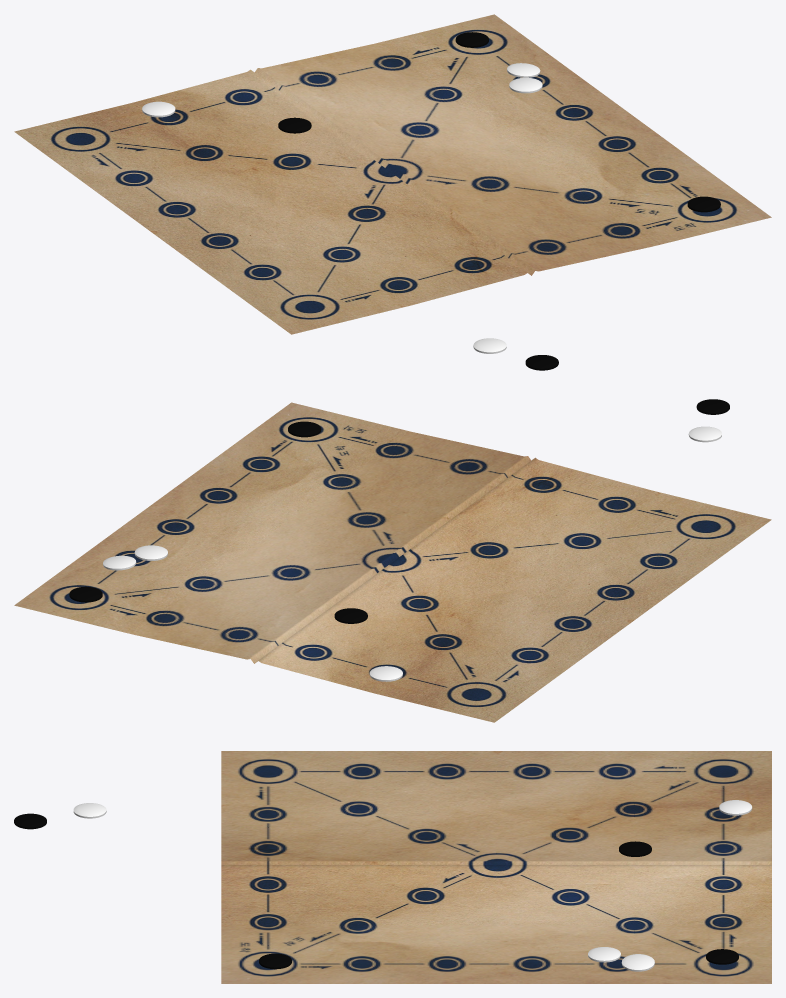
The model's file is gameboard.fbx.
3 renders of one model, top to bottom at view 1: azimuth 30°, elevation 25°; view 2: azimuth 150°, elevation 25°; view 3: azimuth 270°, elevation 25°, orthographic.
Parts seen in each view (by area): view 1: Game_Board; view 2: Game_Board; view 3: Game_Board, Cylinder005, Cylinder006, Cylinder002, Cylinder003, Cylinder007, Cylinder008, Cylinder001, Cylinder004.
Part boxes in pixels (box(x1,y1,x2,y2)): Game_Board: box(14, 14, 771, 334); Game_Board: box(14, 402, 771, 722); Game_Board: box(221, 751, 771, 983); Cylinder005: box(621, 954, 654, 971); Cylinder006: box(73, 803, 106, 818); Cylinder002: box(706, 949, 738, 964); Cylinder003: box(14, 813, 46, 829); Cylinder007: box(719, 800, 752, 815); Cylinder008: box(588, 947, 620, 962); Cylinder001: box(259, 953, 291, 969); Cylinder004: box(619, 841, 651, 856).
Bounding box in the file's own units: 100 × 1.57 × 138.
